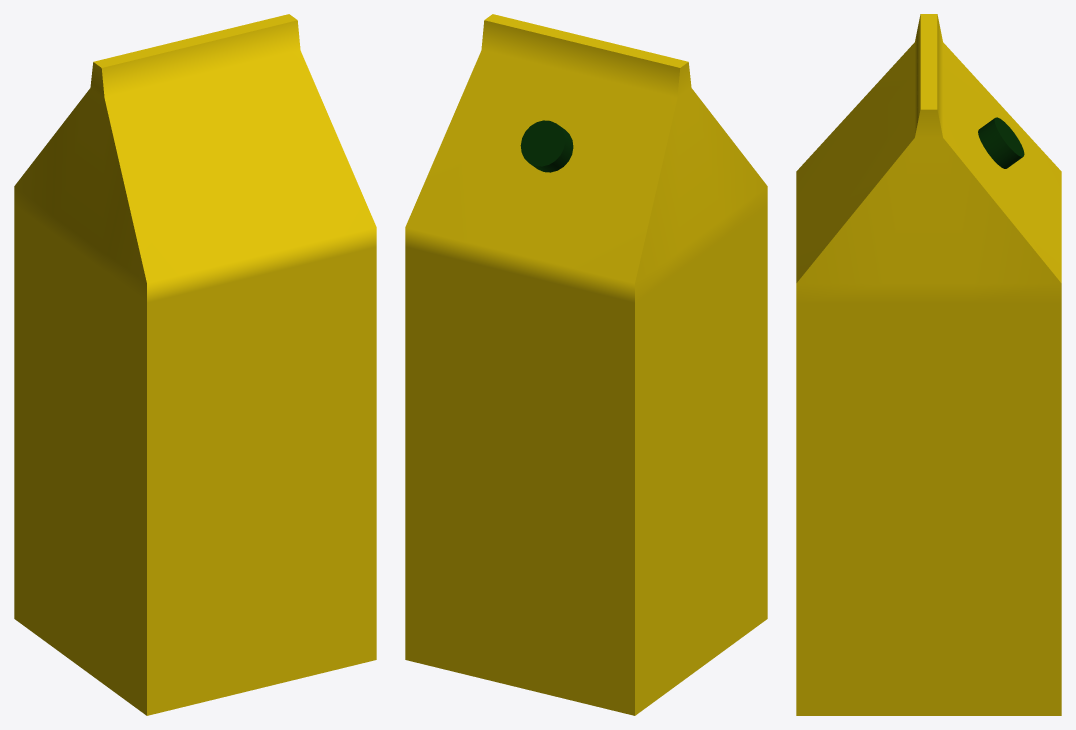
File: juice_carton.fbx
3 renders of one model, left to right at view 1: azimuth 30°, elevation 25°; view 2: azimuth 150°, elevation 25°; view 3: azimuth 270°, elevation 25°, orthographic.
Visible parts, largest first — view 1: new_juice_carton; view 2: new_juice_carton; view 3: new_juice_carton.
Part boxes in pixels (x1,y1,x2,y2): new_juice_carton: (14, 14, 376, 715); new_juice_carton: (405, 14, 767, 715); new_juice_carton: (796, 14, 1061, 715).
Size of the model in its own units: 1 by 2.49 by 1.
